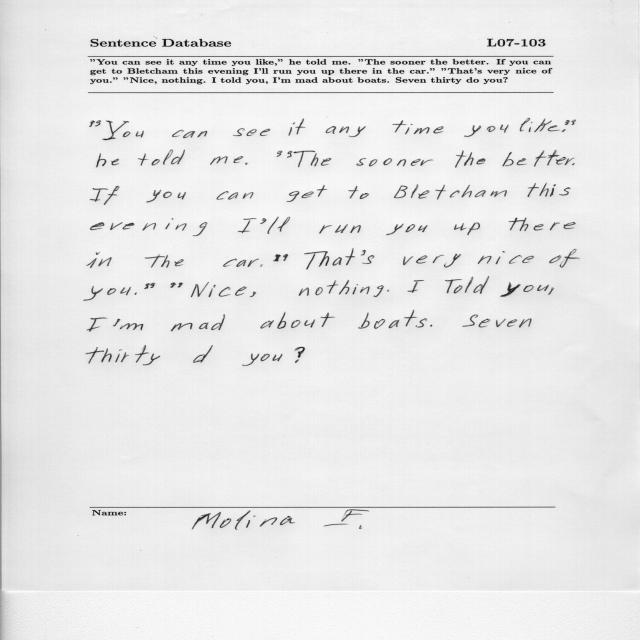word: (91, 218, 208, 236), (394, 185, 507, 200), (86, 345, 160, 365), (299, 280, 384, 297), (358, 310, 427, 329), (260, 312, 335, 329), (502, 150, 575, 167), (304, 248, 355, 270), (509, 217, 576, 231), (171, 315, 225, 332), (462, 315, 532, 328), (102, 121, 144, 141), (191, 282, 247, 297), (403, 254, 461, 268), (445, 276, 489, 294), (138, 150, 185, 166), (500, 282, 549, 297), (478, 251, 534, 264), (393, 120, 444, 134), (84, 286, 131, 301), (287, 151, 331, 167), (520, 118, 570, 132), (287, 185, 328, 202), (357, 158, 434, 166), (528, 183, 571, 197), (549, 249, 580, 268), (464, 124, 509, 137), (90, 186, 120, 205), (145, 254, 184, 268), (146, 190, 186, 203), (456, 151, 486, 168), (260, 217, 290, 234), (242, 354, 283, 366), (386, 224, 428, 235), (326, 126, 366, 137), (319, 224, 361, 234), (86, 252, 112, 268), (193, 345, 213, 363), (217, 191, 254, 200), (113, 319, 143, 330), (96, 153, 119, 167), (454, 223, 480, 235), (87, 317, 107, 332), (210, 156, 243, 165), (233, 128, 270, 136), (289, 119, 306, 136), (223, 259, 259, 267), (238, 218, 257, 233), (172, 130, 207, 138), (348, 186, 369, 199), (408, 280, 425, 293), (361, 250, 374, 264), (294, 347, 305, 363), (90, 120, 101, 127), (144, 283, 155, 289), (170, 283, 183, 288), (273, 255, 281, 262), (548, 288, 554, 295), (277, 151, 283, 157), (250, 292, 256, 298), (283, 254, 288, 261), (572, 120, 576, 125), (260, 264, 263, 267), (245, 163, 248, 165), (572, 163, 575, 165), (134, 293, 137, 295), (430, 325, 433, 327), (387, 290, 389, 292)
